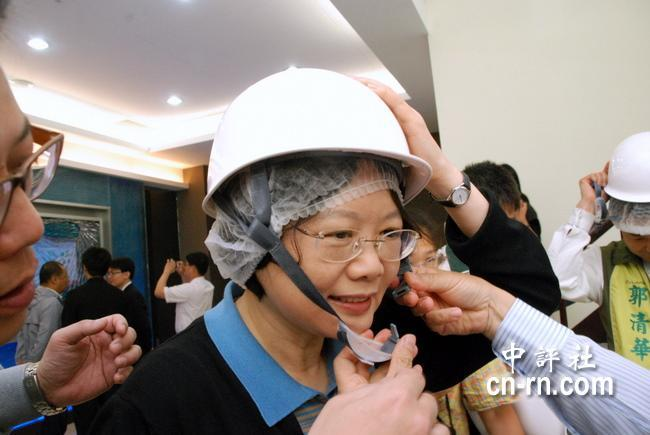helmet: (200, 67, 427, 205), (602, 133, 649, 207)
